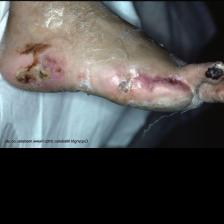Wound: (13, 40, 65, 91), (196, 62, 224, 92), (74, 66, 98, 97), (120, 80, 132, 101)
